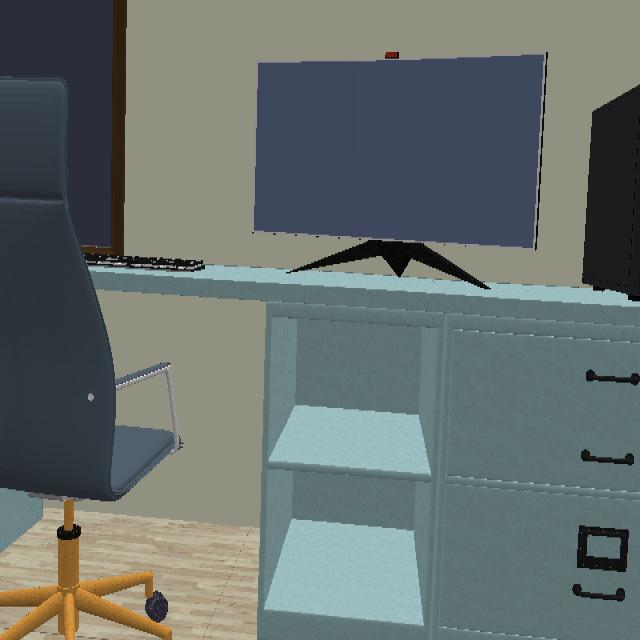cabinet: (256, 281, 640, 640)
chair: (0, 76, 170, 503)
monitor: (253, 53, 550, 251)
